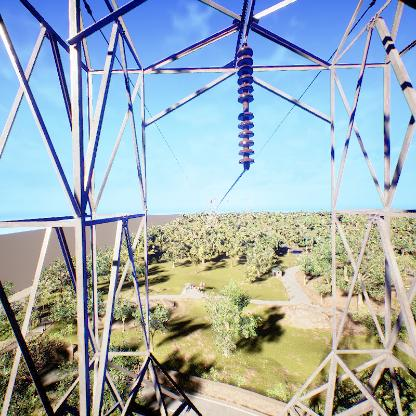insulator: (233, 44, 257, 172)
